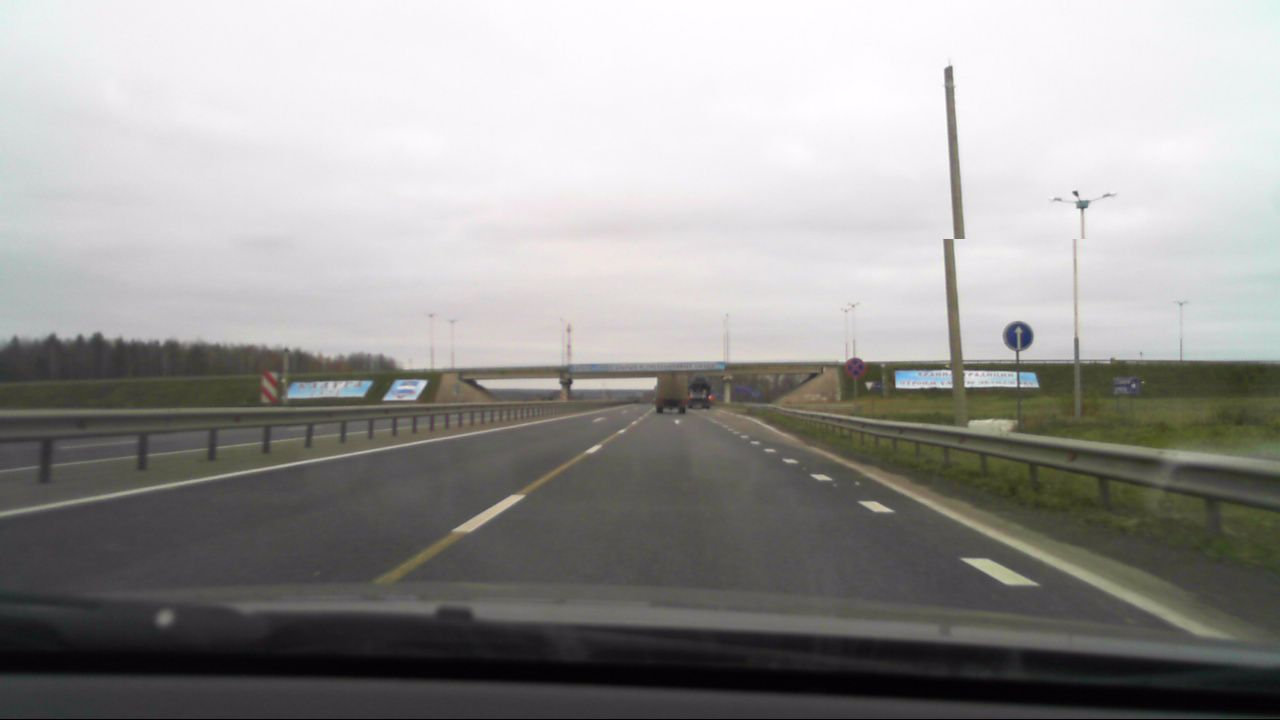No Parking: (842, 352, 874, 384)
